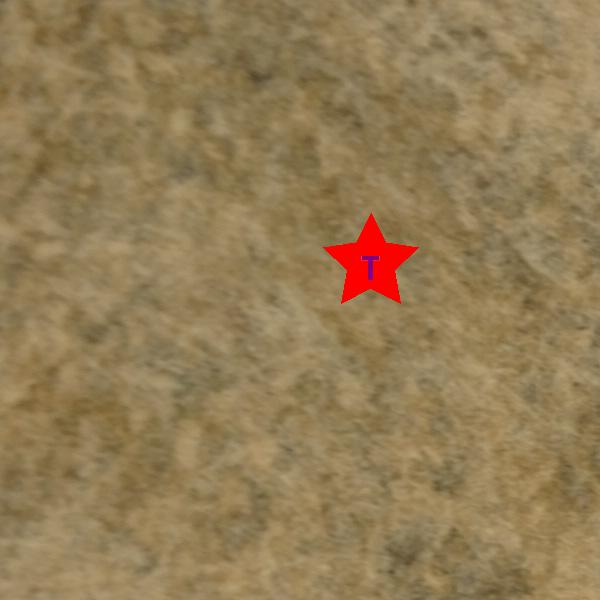Star: (321, 213, 421, 313)
